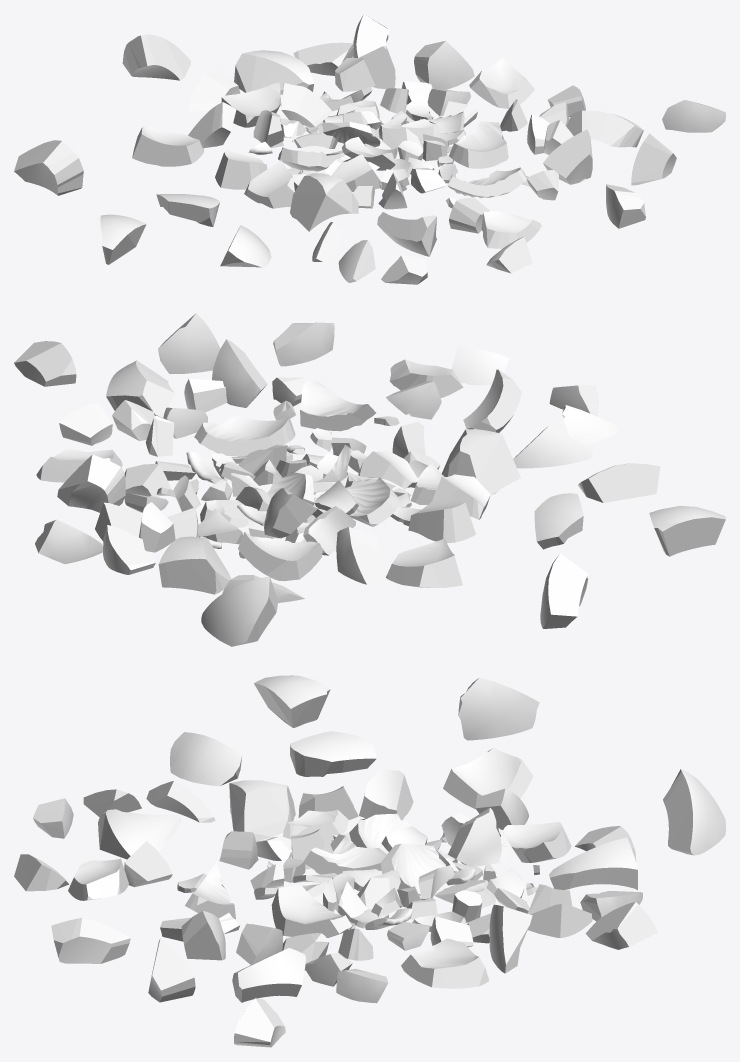
Rendered from vase smashed.fbx.
3 renders of one model, top to bottom at view 1: azimuth 30°, elevation 25°; view 2: azimuth 150°, elevation 25°; view 3: azimuth 270°, elevation 25°, orthographic. The views are drawn at different scales.
Parts seen in each view (by area): view 1: fractured vase; view 2: fractured vase; view 3: fractured vase.
Part boxes in pixels (bbox=[...]): fractured vase: bbox=[14, 14, 725, 284]; fractured vase: bbox=[14, 313, 725, 646]; fractured vase: bbox=[14, 675, 725, 1047].
Bounding box in the file's own units: 119 × 9.52 × 102.
